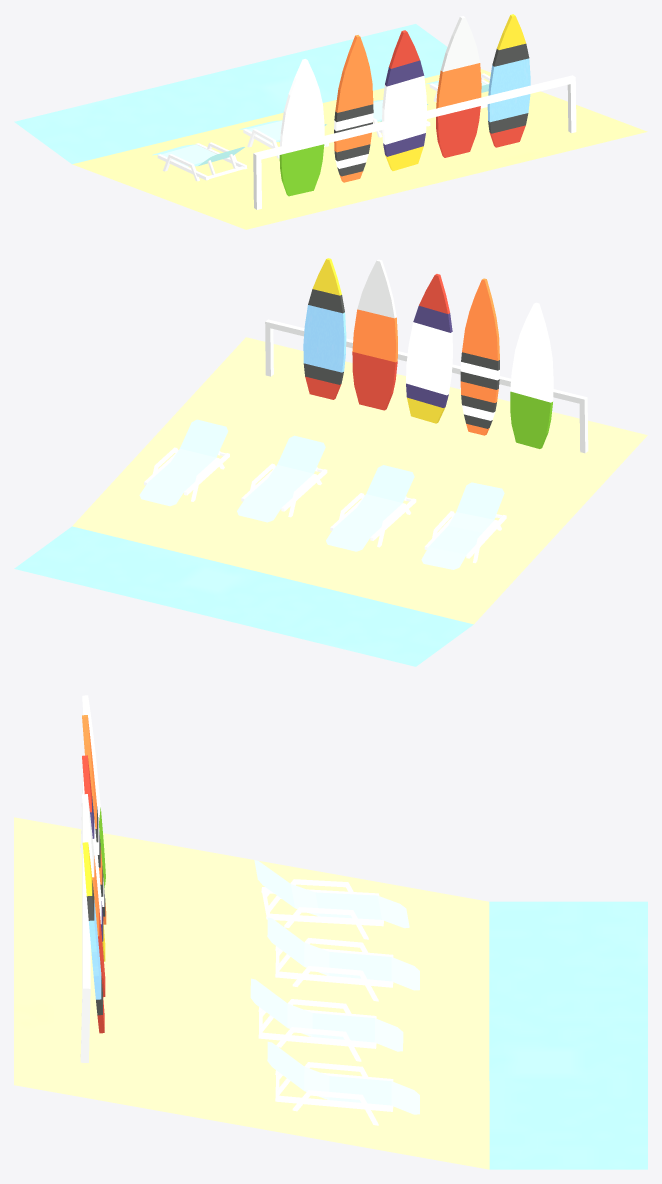
Rendered from beach_tile_1x1_4.glb.
The picture shows the model from 3 angles, top to bottom: view 1: azimuth 30°, elevation 25°; view 2: azimuth 150°, elevation 25°; view 3: azimuth 270°, elevation 25°; orthographic projection. The views are drawn at different scales.
Visible parts, largest first — view 1: beach_tile_1x1_4(Clone); view 2: beach_tile_1x1_4(Clone); view 3: beach_tile_1x1_4(Clone).
Part boxes in pixels (x1=…): beach_tile_1x1_4(Clone): x1=14, y1=14, x2=647, y2=229; beach_tile_1x1_4(Clone): x1=14, y1=258, x2=647, y2=666; beach_tile_1x1_4(Clone): x1=14, y1=695, x2=647, y2=1169.
Bounding box in the file's own units: 8 × 3.87 × 8.
1 material, 1 textured.
